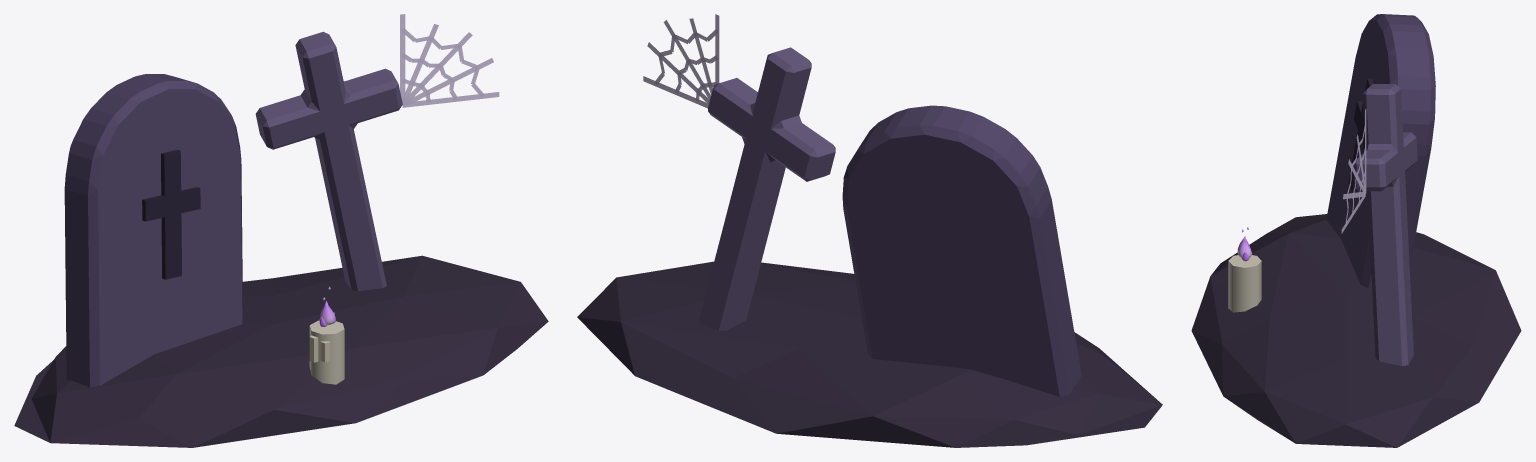
The model's file is decor_4.fbx.
The picture shows the model from 3 angles, left to right: view 1: azimuth 30°, elevation 25°; view 2: azimuth 150°, elevation 25°; view 3: azimuth 270°, elevation 25°; orthographic projection. The views are drawn at different scales.
Parts seen in each view (by area): view 1: decor_4; view 2: decor_4; view 3: decor_4.
Part boxes in pixels (x1,y1,x2,y2): decor_4: (14,14,548,447); decor_4: (577,14,1162,447); decor_4: (1191,14,1521,447).
Bounding box in the file's own units: 1.66 × 0.9534 × 0.9844.
